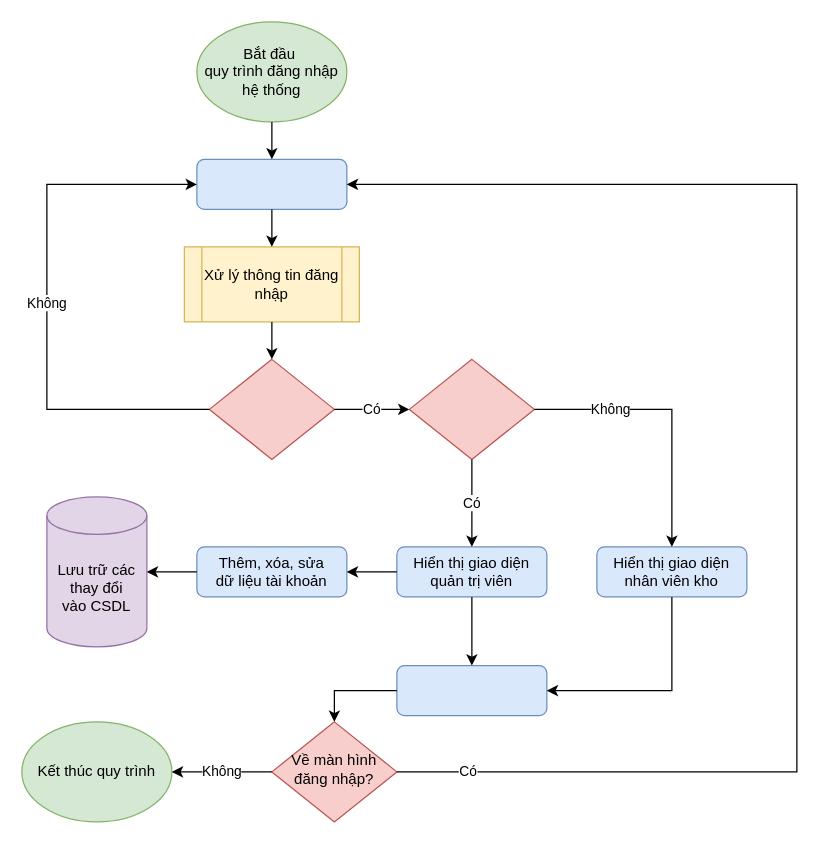
The diagram is 829 pixels wide and 844 high, and some of its shapes have lost their labels. Here are the shapes that lost their labels. From the top down, the box of each, then its label:
(196, 158, 347, 209): Đăng nhập
(208, 358, 334, 459): Đăng nhập thành công?
(408, 358, 534, 459): Là quản trị viên?
(396, 664, 547, 716): Đăng xuất hệ thống
